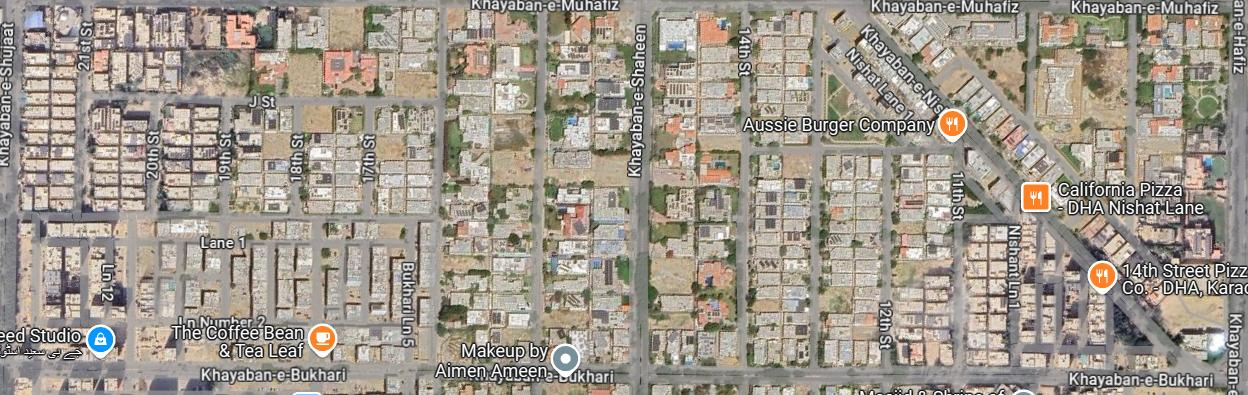Buildings: (876, 6, 1228, 376), (17, 221, 433, 361), (543, 0, 637, 360), (444, 9, 536, 364), (651, 13, 742, 364), (90, 7, 439, 95), (1140, 14, 1229, 321), (1020, 204, 1173, 367), (1036, 15, 1127, 217), (818, 157, 885, 369), (893, 155, 956, 364), (19, 8, 82, 214), (750, 154, 812, 363), (933, 12, 1028, 113), (751, 13, 815, 144), (82, 98, 150, 211), (229, 104, 294, 213), (304, 104, 365, 214), (965, 224, 1012, 365), (374, 109, 435, 216), (159, 105, 220, 212), (824, 67, 901, 144)
